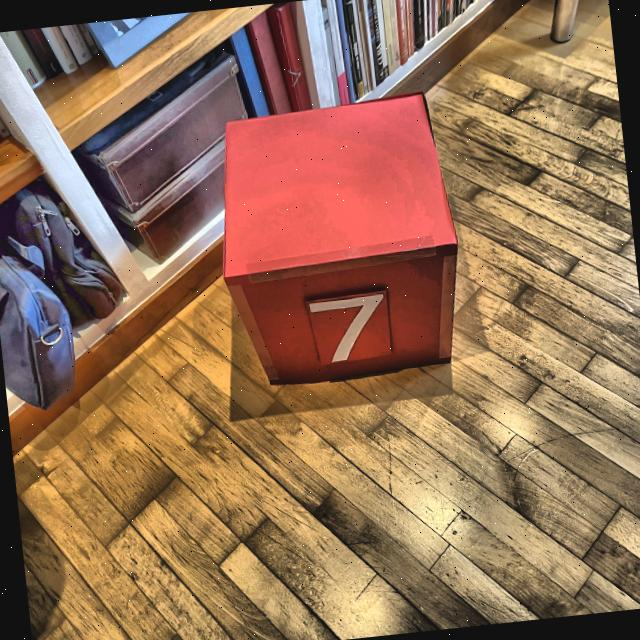red box: (208, 96, 468, 388)
seven: (305, 289, 392, 367)
